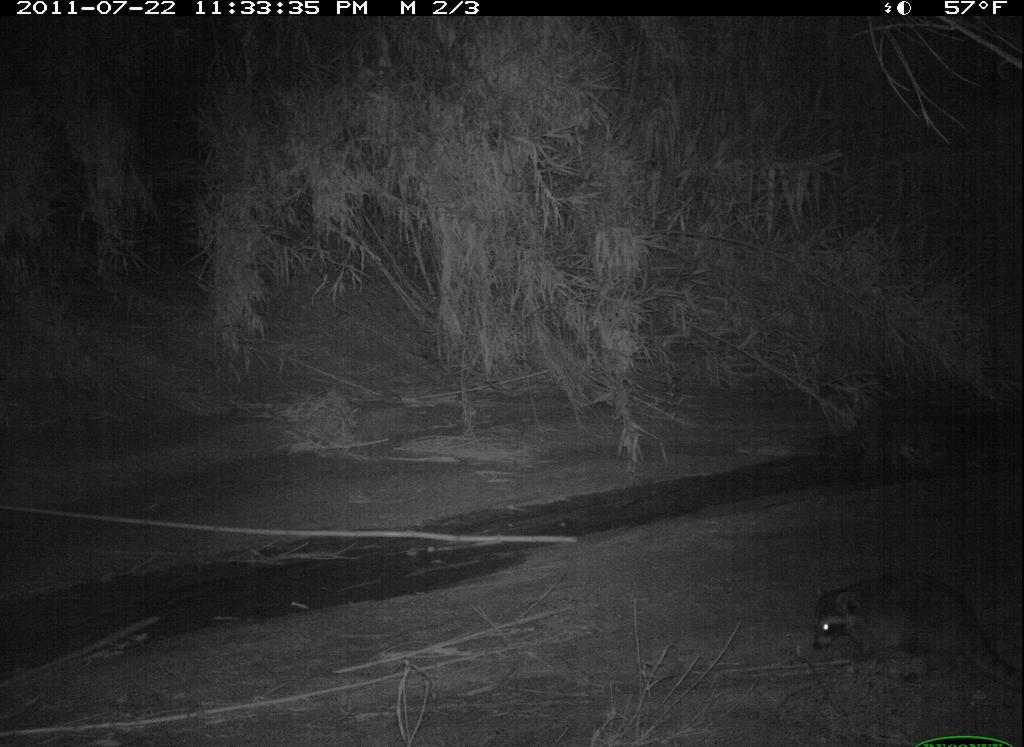raccoon: (807, 565, 1023, 692), (814, 386, 998, 485)
